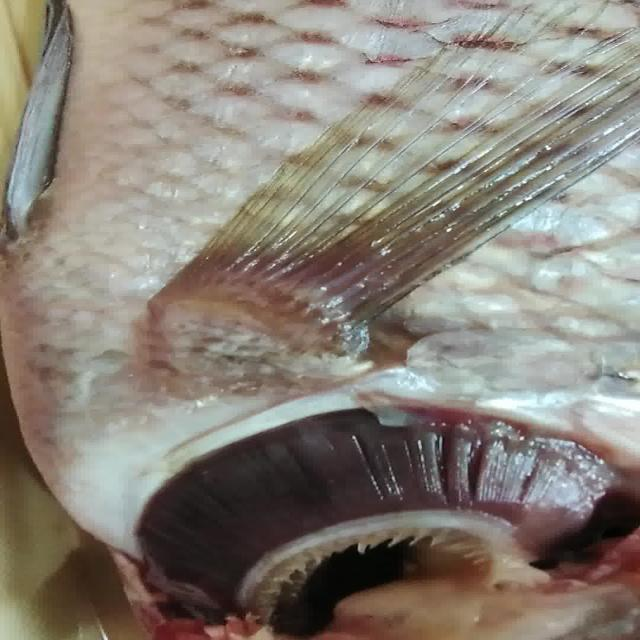Non-Fresh: (154, 396, 597, 616)
